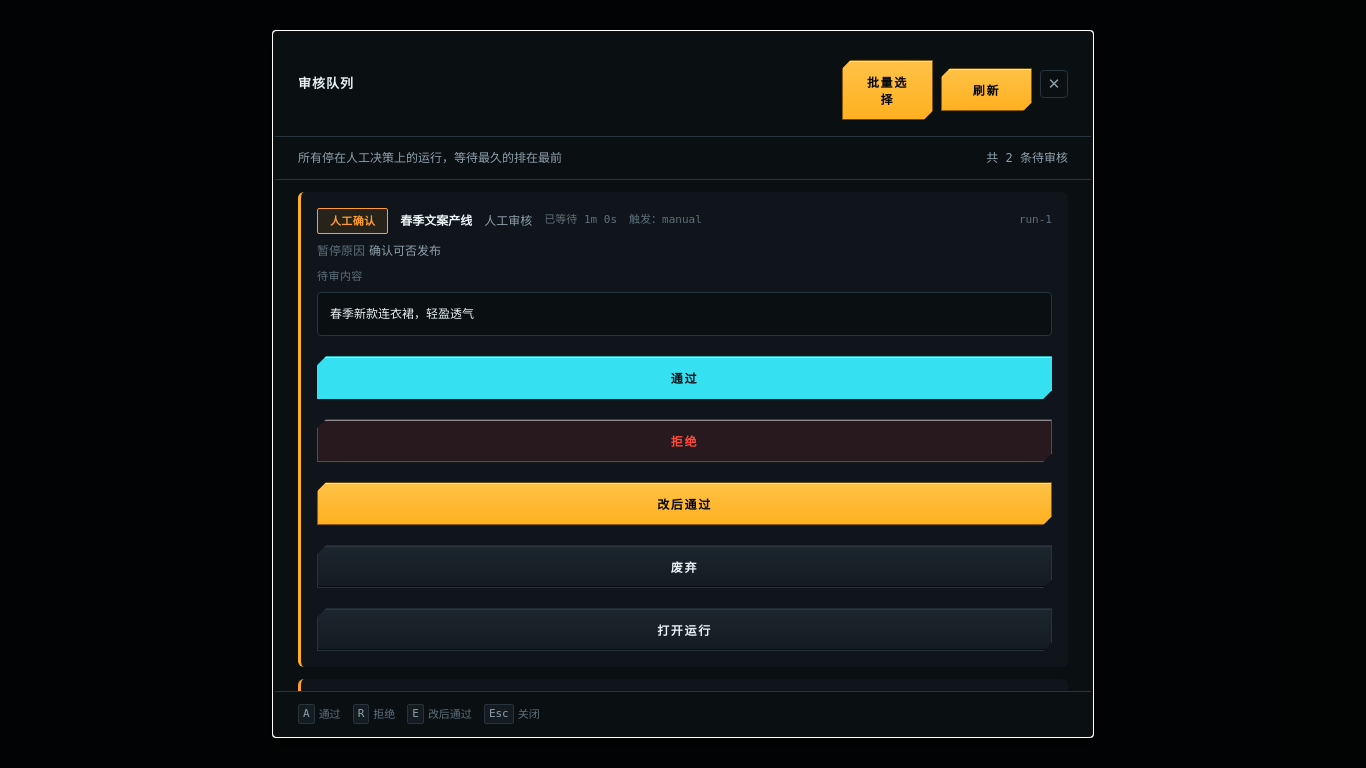
ReviewQueue › 批量选择 › 未勾选时批量通过不可点
Check: the heading "审核队列" is shown, box [298,74,354,94]
Click the button "批量选择": click(887, 90) [842,60,933,120]
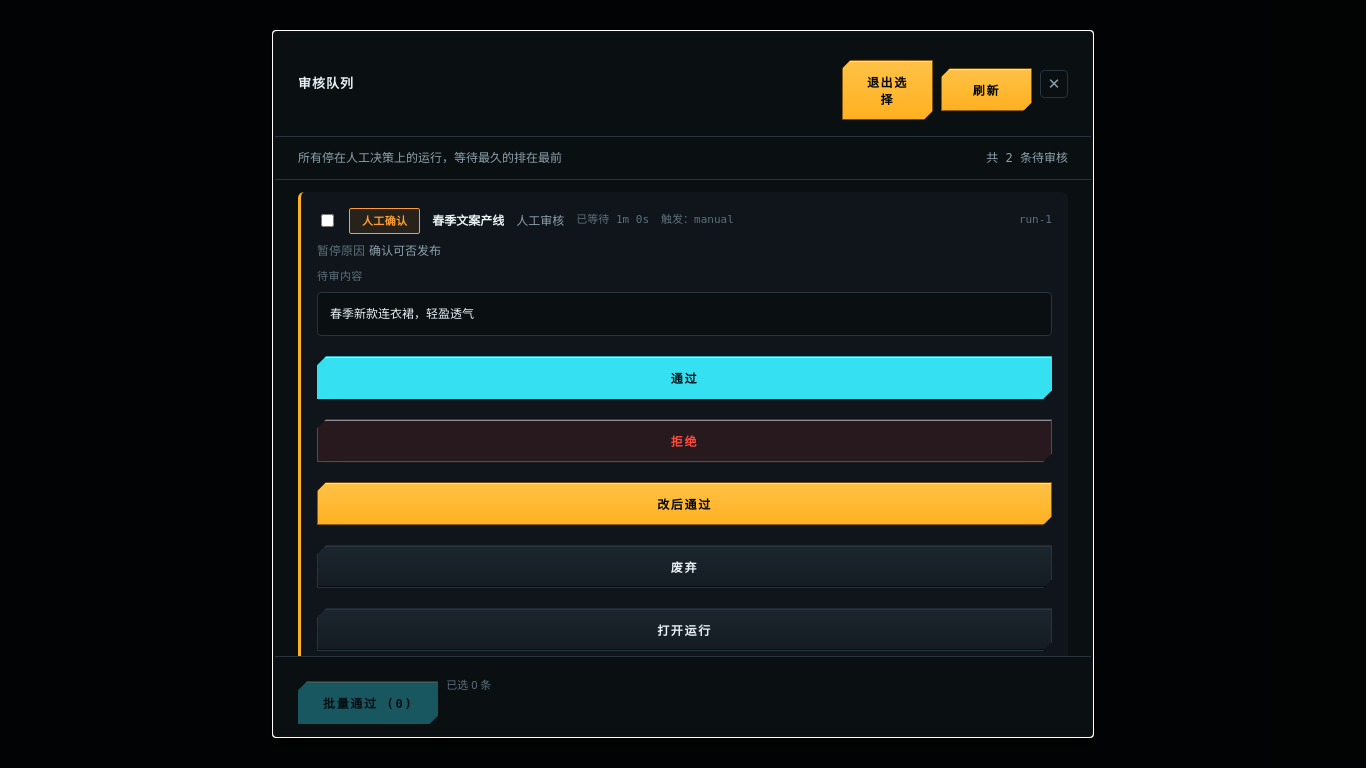
Check: the button "批量通过 (0)" is disabled, box [298,681,438,724]
